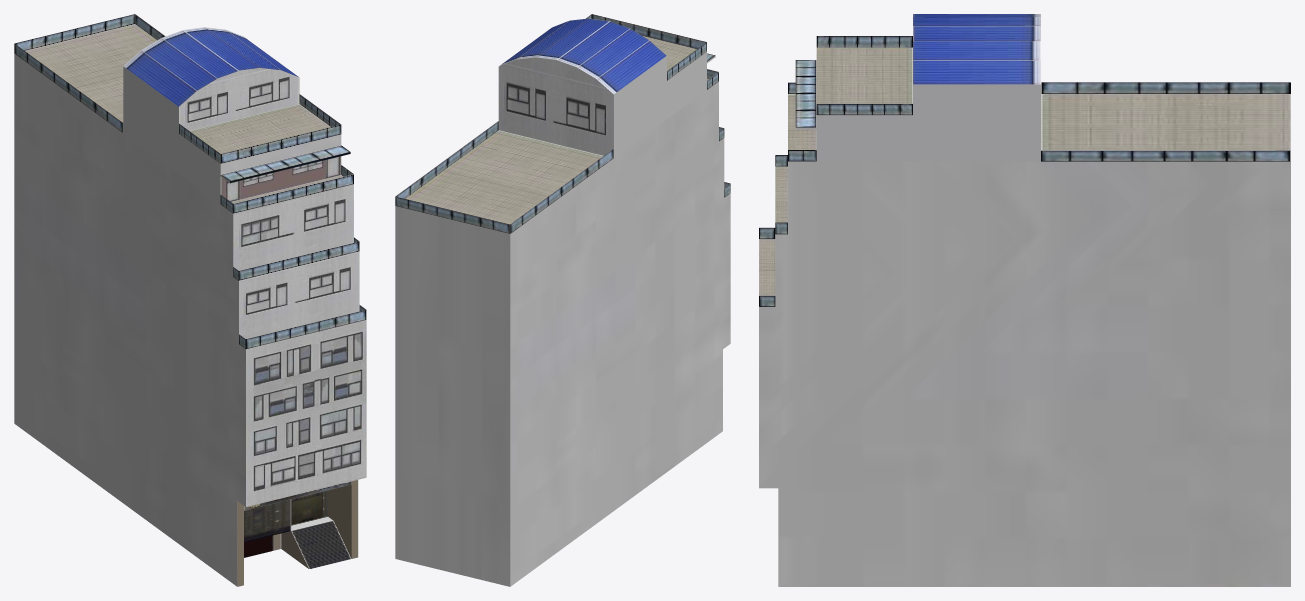
3 views of the same model, side by side, from view 1: azimuth 30°, elevation 25°; view 2: azimuth 150°, elevation 25°; view 3: azimuth 270°, elevation 25° (orthographic). The views are drawn at different scales.
Visible parts, largest first — view 1: HN134___Authentic_Hanoi_Hotel; view 2: HN134___Authentic_Hanoi_Hotel; view 3: HN134___Authentic_Hanoi_Hotel.
Part boxes in pixels (x1,y1,x2,y2): HN134___Authentic_Hanoi_Hotel: (14, 14, 366, 586); HN134___Authentic_Hanoi_Hotel: (395, 14, 730, 586); HN134___Authentic_Hanoi_Hotel: (759, 14, 1290, 586).
Size of the model in its own units: 10 by 36.3 by 33.2.
Materials: 1 (1 with a texture image).
